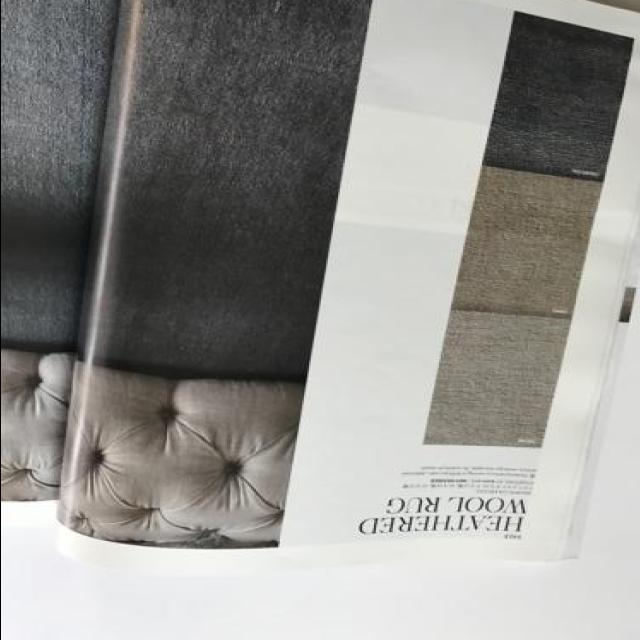kertas: (0, 0, 640, 574)
